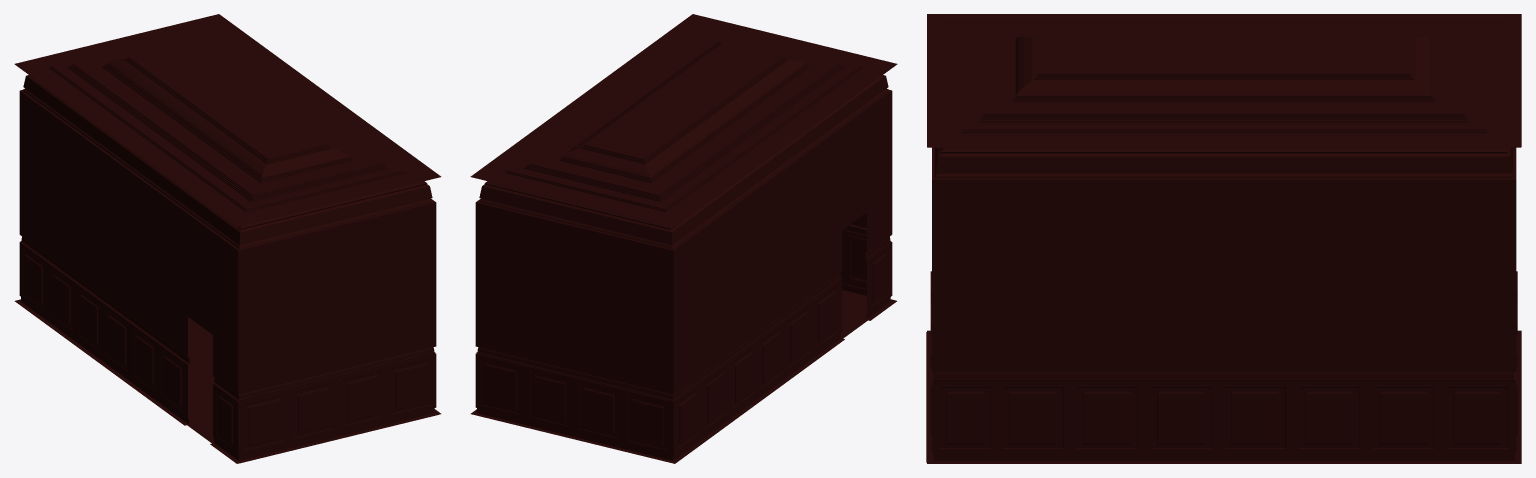
The model's file is 1door_2.FBX.
The picture shows the model from 3 angles, left to right: view 1: azimuth 30°, elevation 25°; view 2: azimuth 150°, elevation 25°; view 3: azimuth 270°, elevation 25°; orthographic projection. The views are drawn at different scales.
Parts seen in each view (by area): view 1: wall, ceiling, floor; view 2: wall, ceiling, floor; view 3: wall, ceiling, floor.
Boxes of the visible parts, bbox=[...] form: wall: bbox=[14, 14, 440, 463]; ceiling: bbox=[16, 22, 420, 226]; floor: bbox=[17, 299, 438, 463]; wall: bbox=[470, 14, 896, 463]; ceiling: bbox=[491, 22, 897, 226]; floor: bbox=[473, 290, 894, 462]; wall: bbox=[927, 14, 1521, 463]; ceiling: bbox=[927, 22, 1520, 147]; floor: bbox=[926, 332, 1520, 462].
Size of the model in its own units: 160 by 302 by 192.
